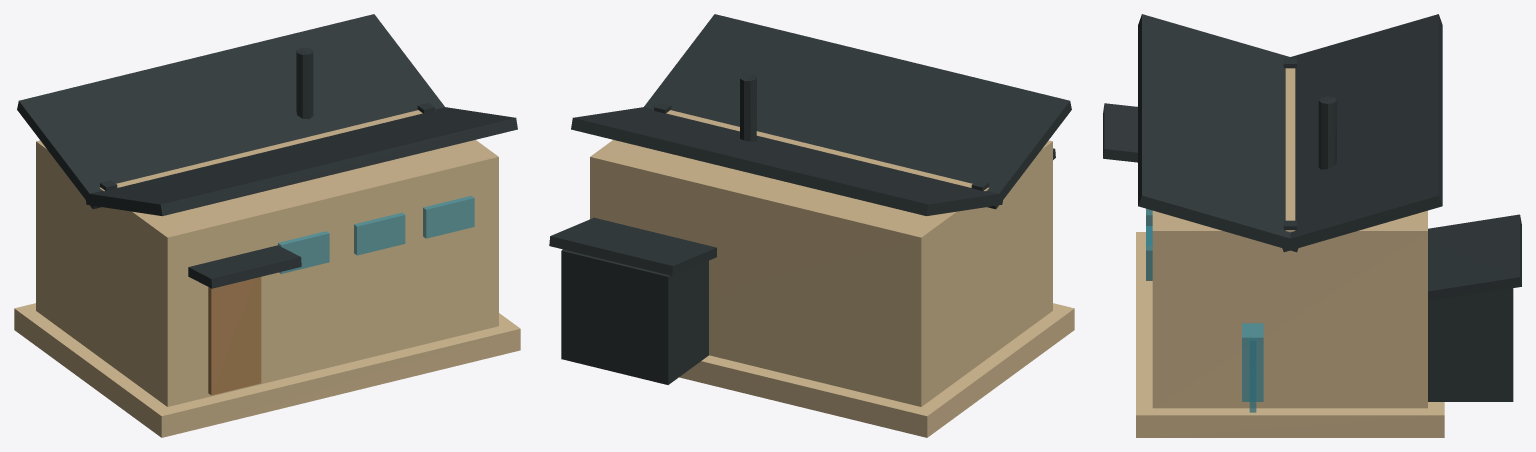
Rendered from bathhouse.source.glb.
3 renders of one model, left to right at view 1: azimuth 30°, elevation 25°; view 2: azimuth 150°, elevation 25°; view 3: azimuth 270°, elevation 25°, orthographic. The views are drawn at different scales.
Visible parts, largest first — view 1: bathhouse-cream-panel-bathhouse-body-mesh, bathhouse-shallow-metal-roof-rear-mesh, bathhouse-grounded-concrete-foundation-mesh, bathhouse-shallow-metal-roof-front-mesh, bathhouse-recessed-teal-entry-door-mesh, bathhouse-narrow-entry-canopy-mesh, bathhouse-high-privacy-window-0.65-mesh, bathhouse-high-privacy-window-1.65-mesh, bathhouse-high-privacy-window--0.45-mesh, bathhouse-slim-roof-vent-stack-mesh; view 2: bathhouse-cream-panel-bathhouse-body-mesh, bathhouse-shallow-metal-roof-front-mesh, bathhouse-rear-service-lean-to-mesh, bathhouse-shallow-metal-roof-rear-mesh, bathhouse-grounded-concrete-foundation-mesh, bathhouse-rear-service-roof-mesh, bathhouse-slim-roof-vent-stack-mesh; view 3: bathhouse-cream-panel-bathhouse-body-mesh, bathhouse-shallow-metal-roof-front-mesh, bathhouse-shallow-metal-roof-rear-mesh, bathhouse-grounded-concrete-foundation-mesh, bathhouse-rear-service-lean-to-mesh, bathhouse-rear-service-roof-mesh, bathhouse-narrow-entry-canopy-mesh, bathhouse-exterior-water-heater-cabinet-mesh, bathhouse-slim-roof-vent-stack-mesh, bathhouse-restrained-pipe-run-mesh.
Part boxes in pixels (x1,y1,x2,y2): bathhouse-cream-panel-bathhouse-body-mesh: (36, 110, 498, 406); bathhouse-shallow-metal-roof-rear-mesh: (17, 14, 444, 209); bathhouse-grounded-concrete-foundation-mesh: (14, 303, 520, 437); bathhouse-shallow-metal-roof-front-mesh: (85, 107, 517, 216); bathhouse-recessed-teal-entry-door-mesh: (208, 277, 261, 395); bathhouse-narrow-entry-canopy-mesh: (188, 245, 301, 288); bathhouse-high-privacy-window-0.65-mesh: (354, 212, 405, 255); bathhouse-high-privacy-window-1.65-mesh: (423, 196, 474, 238); bathhouse-high-privacy-window--0.45-mesh: (278, 231, 329, 273); bathhouse-slim-roof-vent-stack-mesh: (296, 47, 313, 119); bathhouse-cream-panel-bathhouse-body-mesh: (590, 110, 1052, 406); bathhouse-shallow-metal-roof-front-mesh: (644, 14, 1071, 209); bathhouse-rear-service-lean-to-mesh: (561, 249, 708, 384); bathhouse-shallow-metal-roof-rear-mesh: (571, 107, 1003, 216); bathhouse-grounded-concrete-foundation-mesh: (679, 303, 1074, 437); bathhouse-rear-service-roof-mesh: (549, 217, 716, 275); bathhouse-slim-roof-vent-stack-mesh: (740, 74, 756, 141); bathhouse-cream-panel-bathhouse-body-mesh: (1152, 68, 1427, 408); bathhouse-shallow-metal-roof-front-mesh: (1138, 14, 1299, 252); bathhouse-shallow-metal-roof-rear-mesh: (1280, 14, 1442, 252); bathhouse-grounded-concrete-foundation-mesh: (1136, 232, 1444, 437); bathhouse-rear-service-lean-to-mesh: (1428, 288, 1513, 401); bathhouse-rear-service-roof-mesh: (1428, 214, 1521, 301); bathhouse-narrow-entry-canopy-mesh: (1103, 103, 1137, 162); bathhouse-exterior-water-heater-cabinet-mesh: (1242, 323, 1263, 401); bathhouse-slim-roof-vent-stack-mesh: (1318, 96, 1336, 169); bathhouse-restrained-pipe-run-mesh: (1249, 338, 1256, 412).
Bounding box in the file's own units: 5.41 × 3.63 × 5.02.
